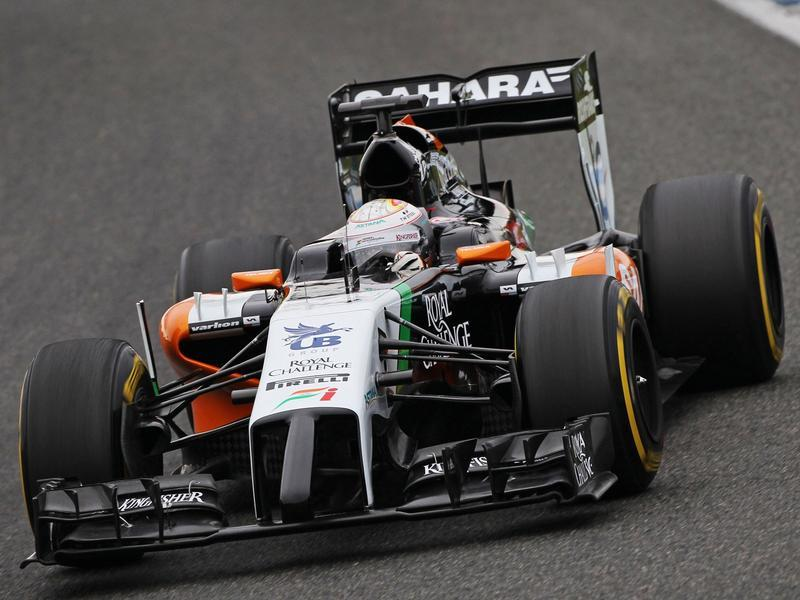racecar: (22, 47, 786, 575)
